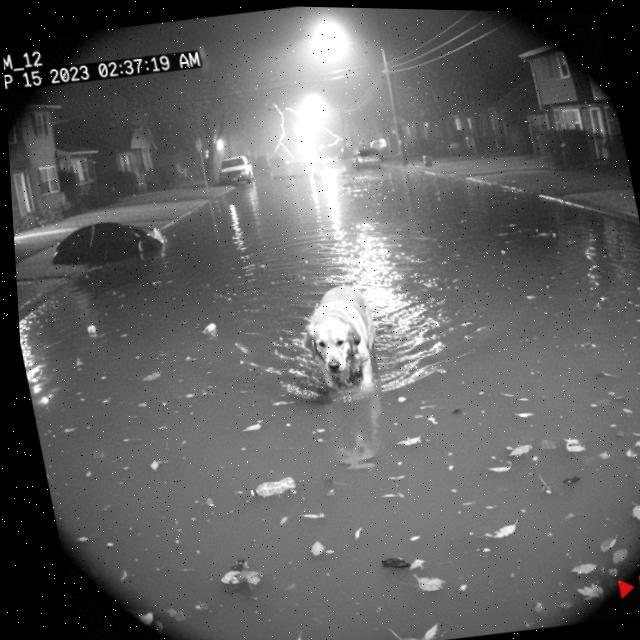dog: (277, 258, 413, 425)
